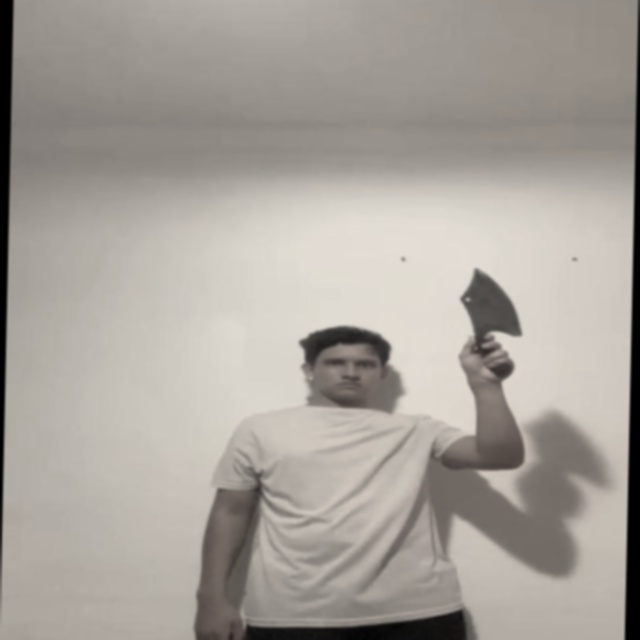Sharp-Object: (457, 266, 527, 335)
